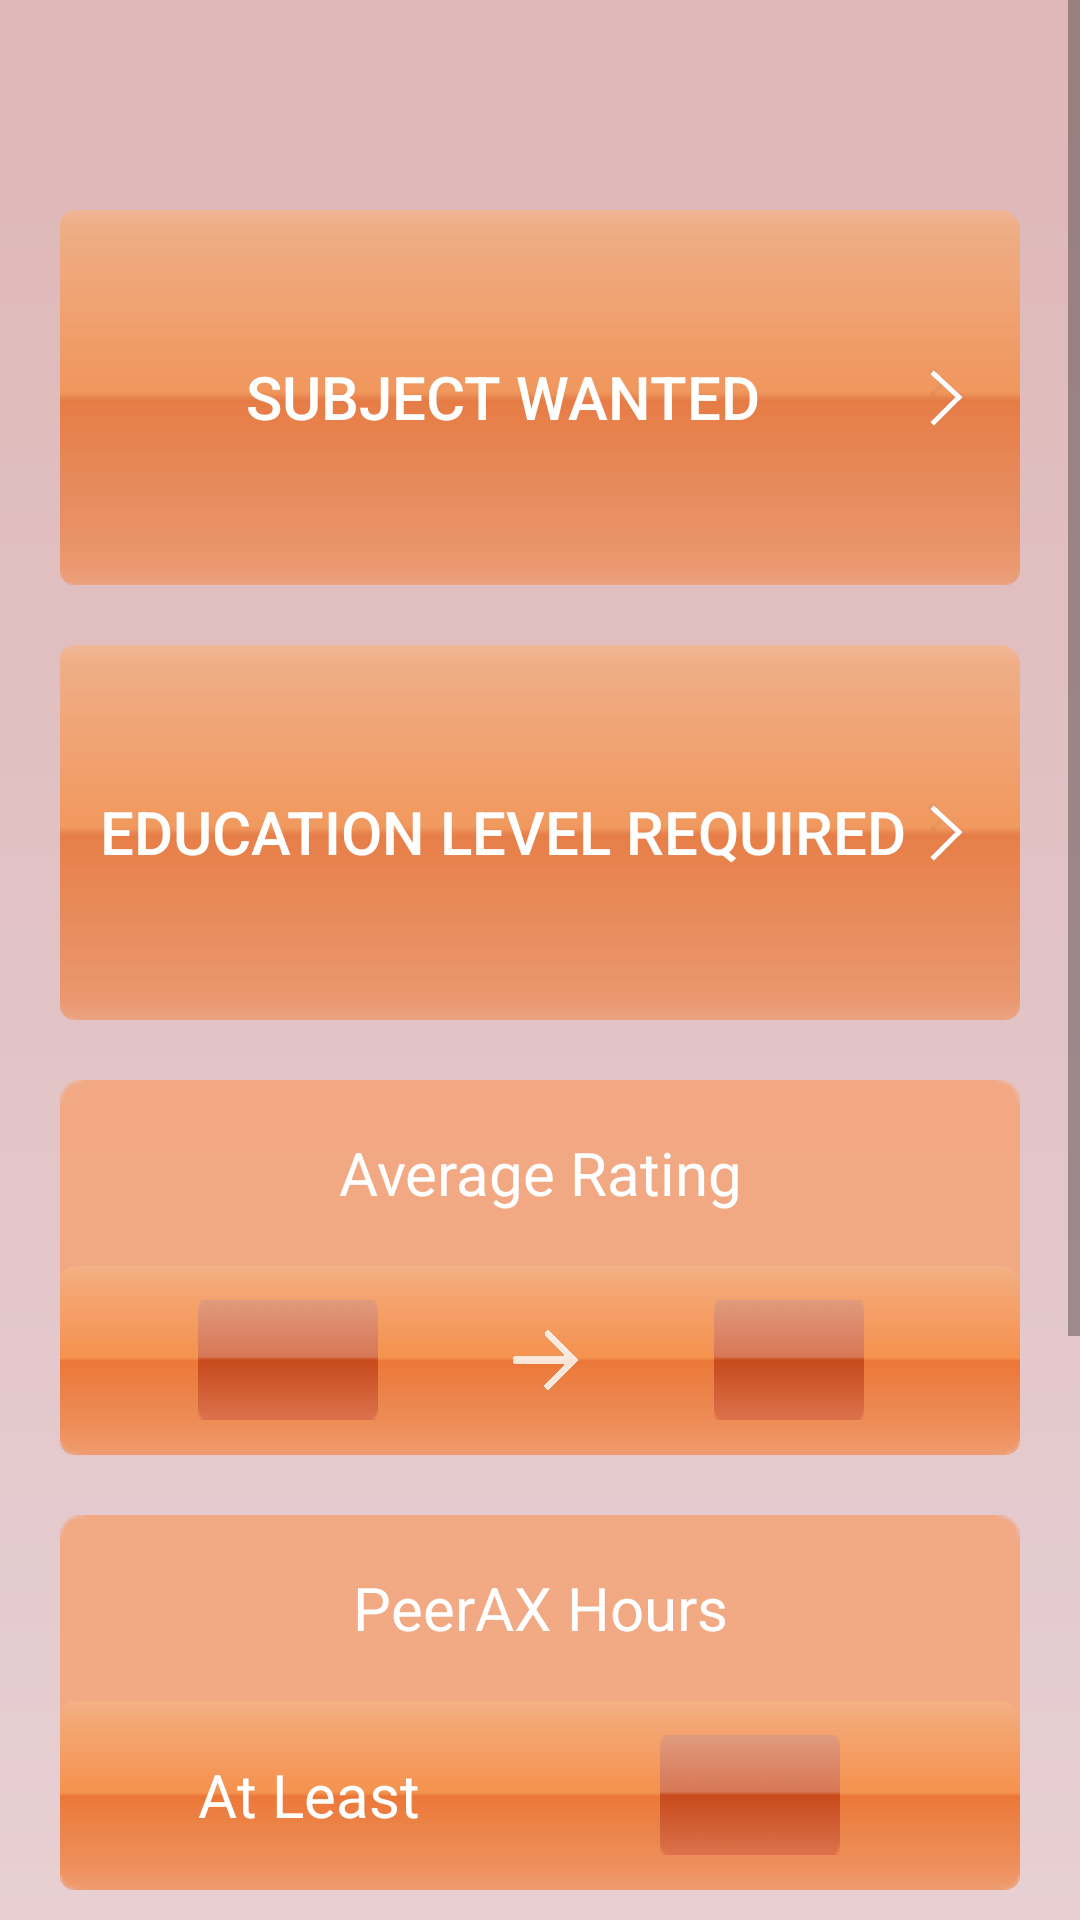

Icons on this 1080w x 1920h Android screen, each with the point to tap as point (x, y):
rightpointyarrow: point (546, 1354)
